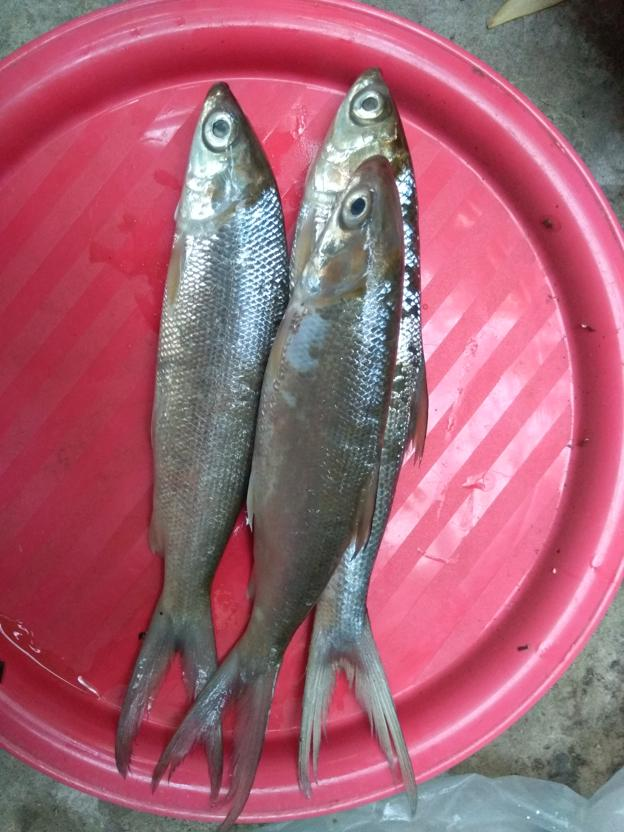Fish head: (298, 154, 405, 306), (175, 81, 279, 229), (306, 65, 412, 197)
Fish tail: (151, 645, 288, 829), (298, 615, 421, 819), (116, 600, 227, 803)
